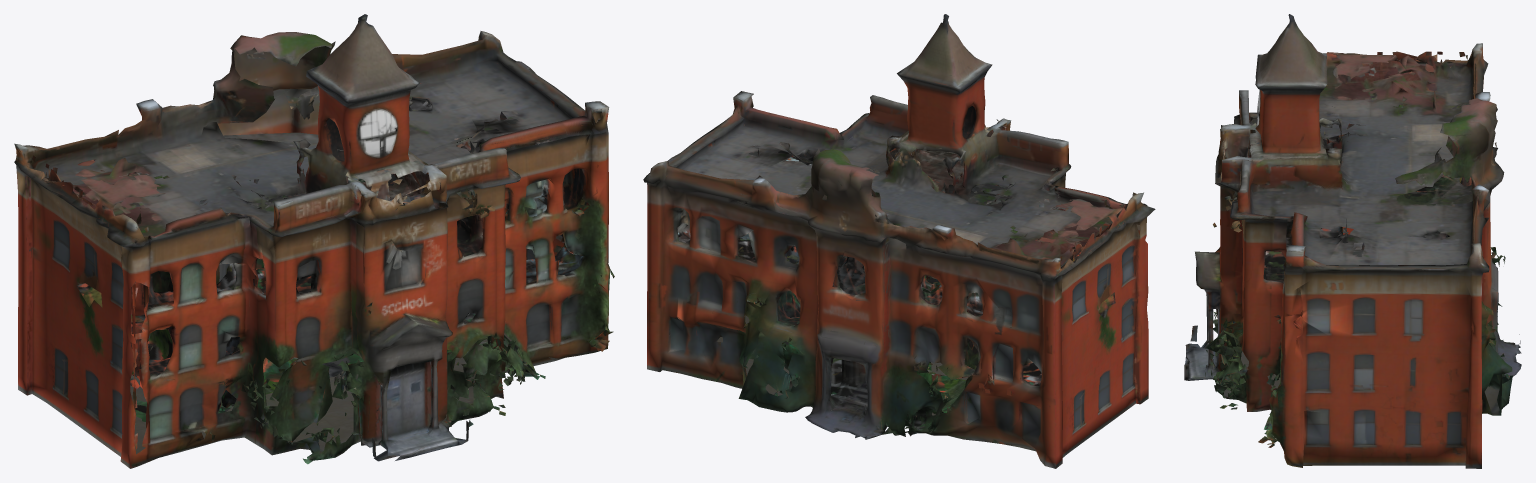
The model's file is Crea_una_gran_escuela_0507142856_texture.fbx.
3 renders of one model, left to right at view 1: azimuth 30°, elevation 25°; view 2: azimuth 150°, elevation 25°; view 3: azimuth 270°, elevation 25°, orthographic. The views are drawn at different scales.
Parts seen in each view (by area): view 1: Mesh1; view 2: Mesh1; view 3: Mesh1.
Part boxes in pixels (bbox=[...]): Mesh1: bbox=[14, 14, 614, 468]; Mesh1: bbox=[643, 14, 1155, 468]; Mesh1: bbox=[1184, 14, 1521, 468].
Bounding box in the file's own units: 199 × 155 × 135.
Materials: 1 (1 with a texture image).
